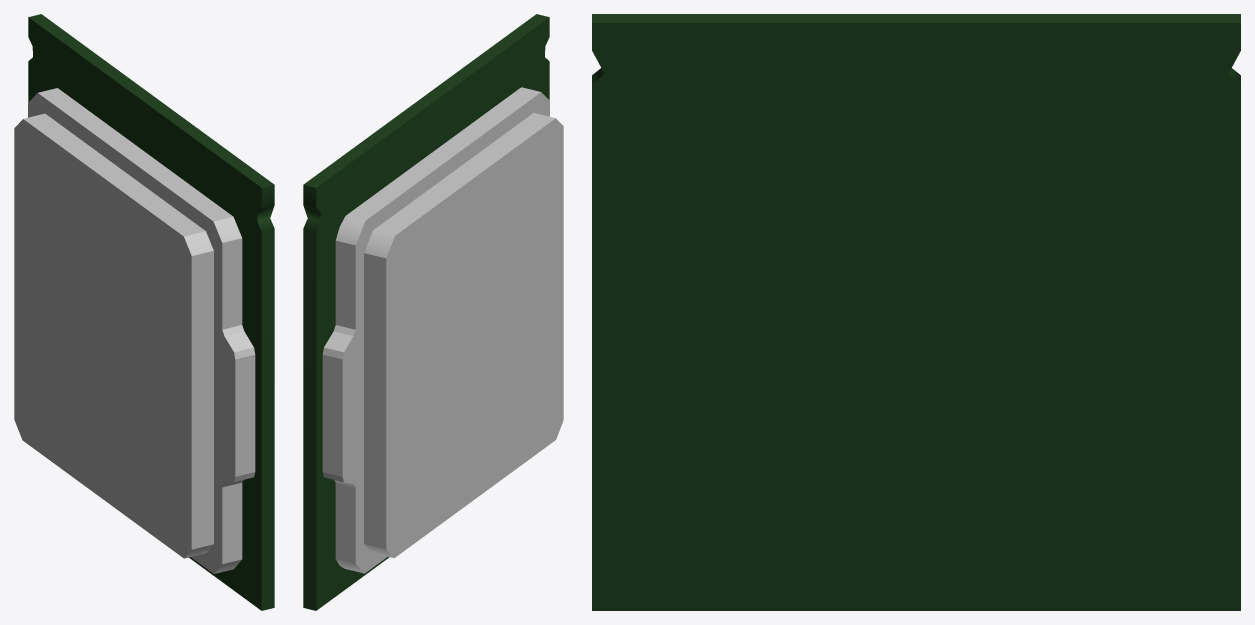
The model's file is cpu_final.glb.
The picture shows the model from 3 angles, left to right: view 1: azimuth 30°, elevation 25°; view 2: azimuth 150°, elevation 25°; view 3: azimuth 270°, elevation 25°; orthographic projection. The views are drawn at different scales.
Parts seen in each view (by area): view 1: pCube841_CPULidM_0, pCube840_CPU_BaseM_0; view 2: pCube841_CPULidM_0, pCube840_CPU_BaseM_0; view 3: pCube840_CPU_BaseM_0.
Boxes of the visible parts, x1,y1,x2,y2 form: pCube841_CPULidM_0: [14, 88, 255, 573]; pCube840_CPU_BaseM_0: [28, 14, 274, 610]; pCube841_CPULidM_0: [322, 87, 563, 573]; pCube840_CPU_BaseM_0: [303, 14, 549, 610]; pCube840_CPU_BaseM_0: [592, 14, 1240, 610].
Bounding box in the file's own units: 0.00455 × 0.0334 × 0.0334.
